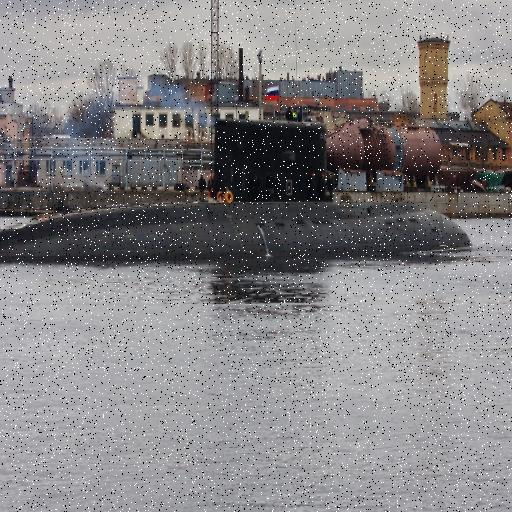submarine: (1, 119, 483, 266)
